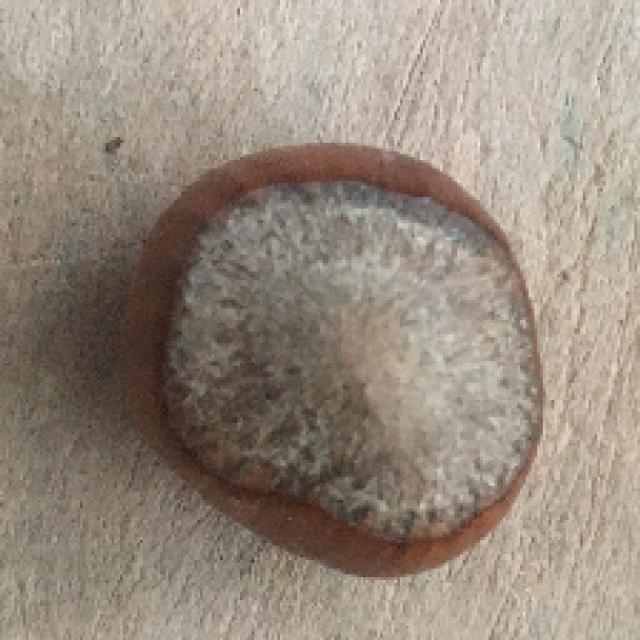qualityHazelnut: (124, 144, 546, 579)
